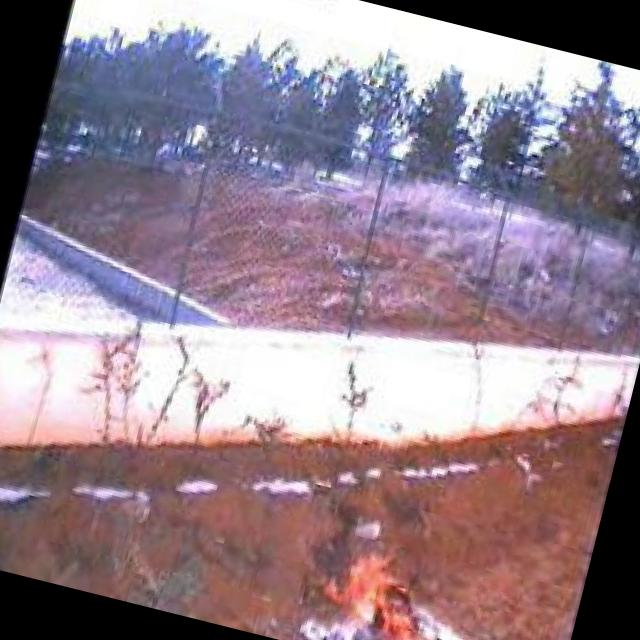Fire: (293, 530, 465, 640)
